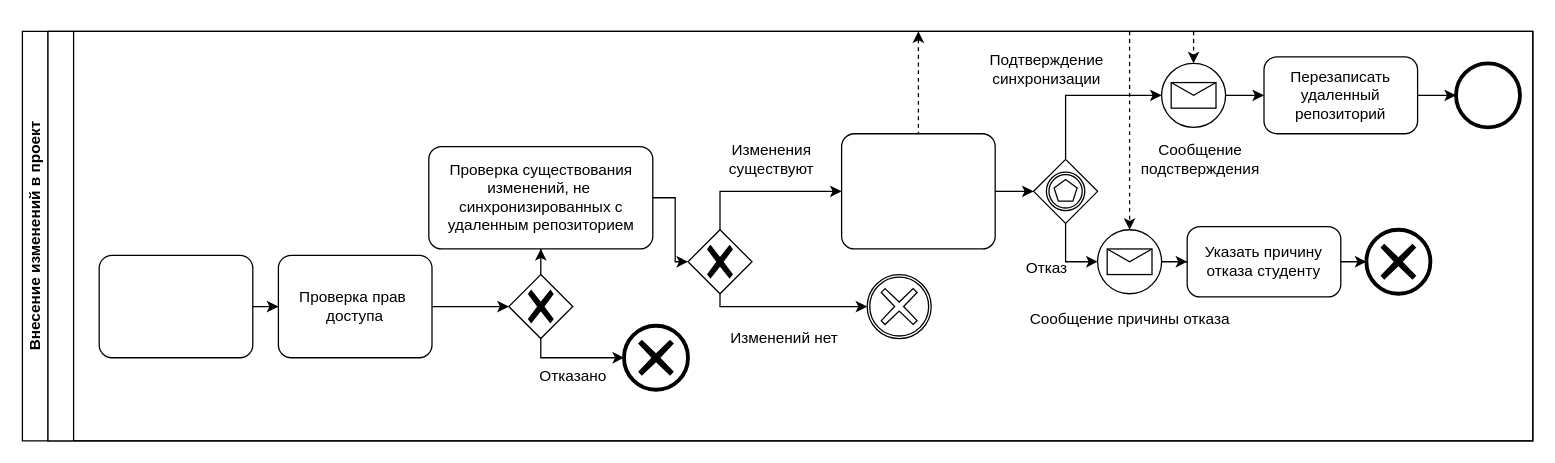
The diagram is 1555 pixels wide and 463 high, and some of its shapes have lost their labels. Here are the shapes that lost their labels. From the top down, the centre of each, then its label:
(917,190): Отправить запрос на синхронихацию удаленному репозиторию
(175,306): Запрос серверу на синхронизацию
